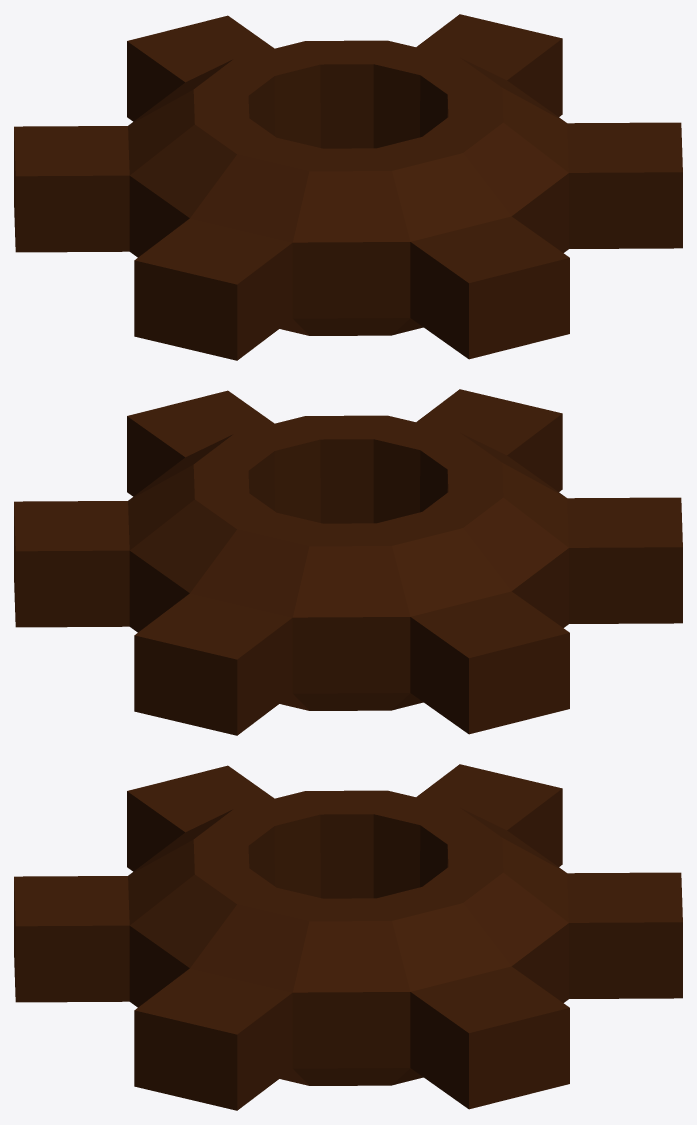
File: Gear.obj
The picture shows the model from 3 angles, top to bottom: view 1: azimuth 30°, elevation 25°; view 2: azimuth 150°, elevation 25°; view 3: azimuth 270°, elevation 25°; orthographic projection.
Parts seen in each view (by area): view 1: gear; view 2: gear; view 3: gear.
Boxes of the visible parts, <box> form: gear: <box>14,14,682,360</box>; gear: <box>14,389,682,735</box>; gear: <box>14,764,682,1110</box>.
Size of the model in its own units: 0.7036 by 0.201 by 0.7354.
